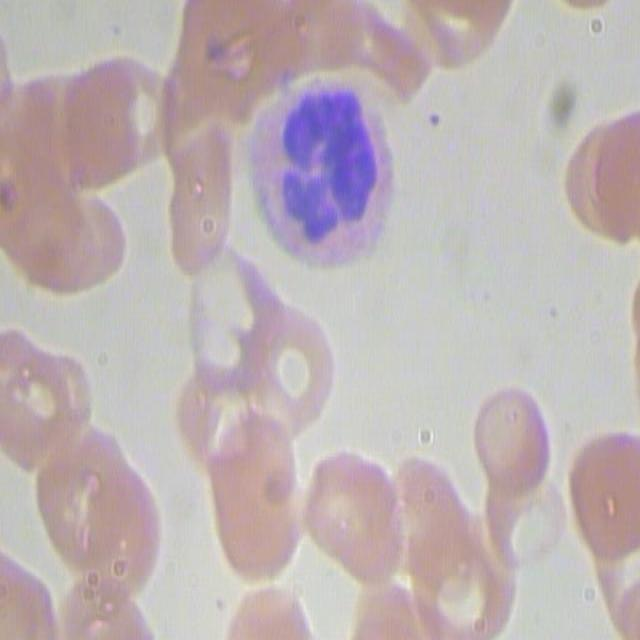RBC: (194, 354, 304, 584), (378, 456, 514, 639), (17, 45, 179, 197), (36, 419, 163, 598), (474, 378, 567, 578), (160, 0, 293, 138), (2, 180, 128, 300), (298, 441, 404, 578), (187, 239, 275, 396), (236, 302, 336, 432), (0, 338, 92, 471), (166, 114, 243, 271), (563, 412, 640, 561), (565, 112, 640, 242), (229, 559, 343, 640), (401, 0, 515, 80), (46, 574, 147, 640), (591, 522, 640, 638)
WBC: (234, 56, 395, 291)
